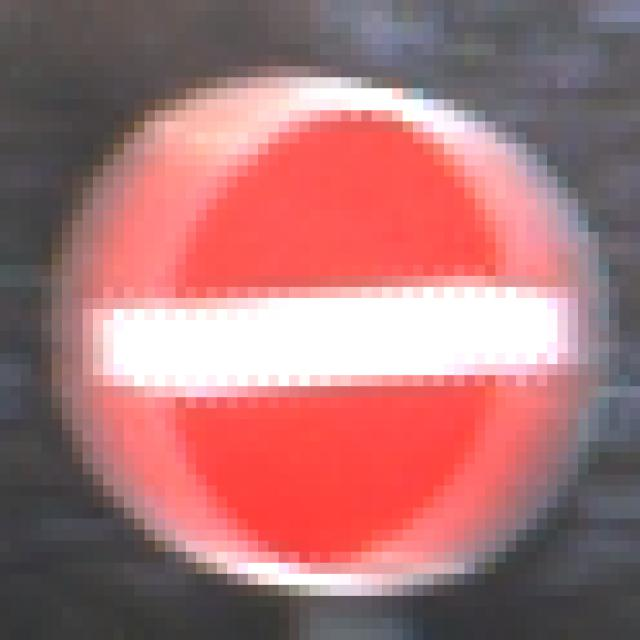No Entry: (63, 56, 589, 586)
